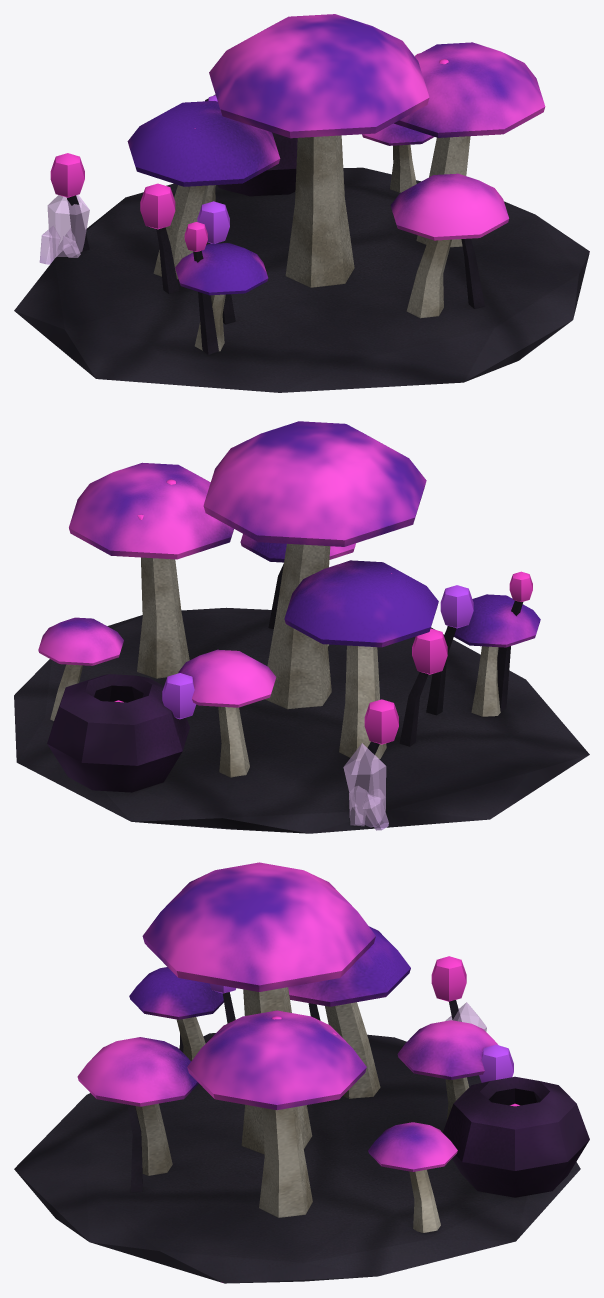
The model's file is esporas_suelo.fbx.
The picture shows the model from 3 angles, top to bottom: view 1: azimuth 30°, elevation 25°; view 2: azimuth 150°, elevation 25°; view 3: azimuth 270°, elevation 25°; orthographic projection. The views are drawn at different scales.
Visible parts, largest first — view 1: esporas_suelo, esporas_suelo_neon_magenta, esporas_suelo_cristal, esporas_suelo_neon; view 2: esporas_suelo, esporas_suelo_neon_magenta, esporas_suelo_cristal, esporas_suelo_neon; view 3: esporas_suelo, esporas_suelo_neon_magenta, esporas_suelo_neon.
Part boxes in pixels (x1,y1,x2,y2): esporas_suelo: [14, 14, 589, 392]; esporas_suelo_neon_magenta: [50, 53, 448, 251]; esporas_suelo_cristal: [39, 194, 89, 264]; esporas_suelo_neon: [197, 95, 229, 243]; esporas_suelo: [14, 421, 589, 833]; esporas_suelo_neon_magenta: [114, 479, 532, 744]; esporas_suelo_cristal: [343, 743, 388, 830]; esporas_suelo_neon: [162, 585, 473, 719]; esporas_suelo: [14, 862, 589, 1283]; esporas_suelo_neon_magenta: [272, 956, 519, 1106]; esporas_suelo_neon: [209, 983, 513, 1082].
Bounding box in the file's own units: 6.72 × 3.83 × 6.54.
Materials: 3 (3 with a texture image).
